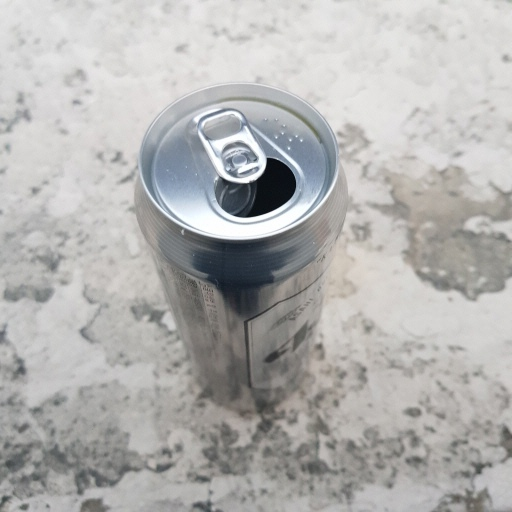Metal_0: (130, 80, 350, 413)
